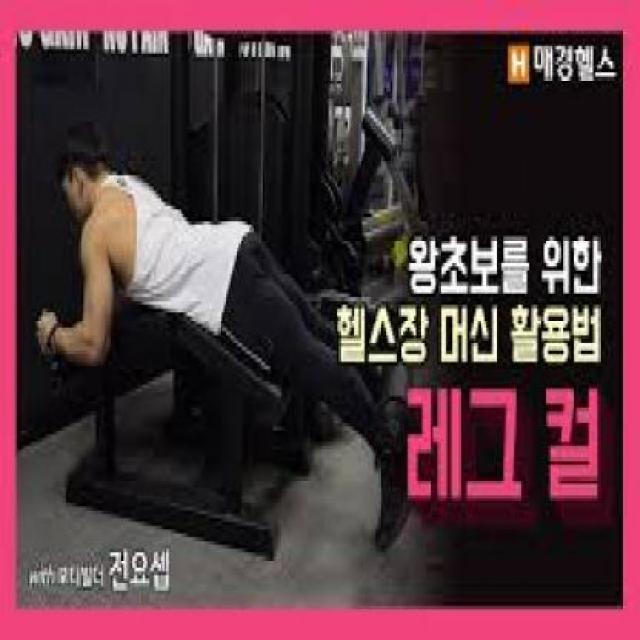reg curl machine: (35, 131, 448, 551)
